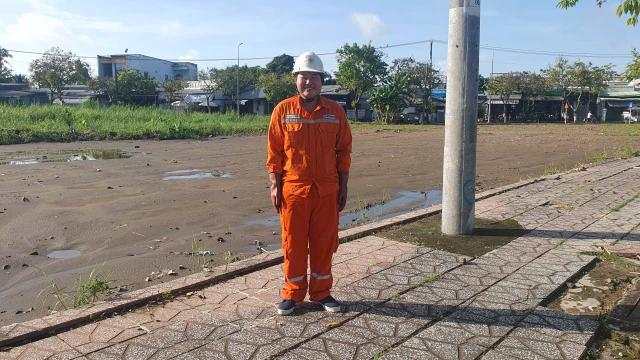gloves: (261, 160, 294, 215), (330, 168, 358, 219)
helmet: (288, 42, 332, 82)
shoes: (307, 288, 350, 315), (274, 289, 304, 318)
